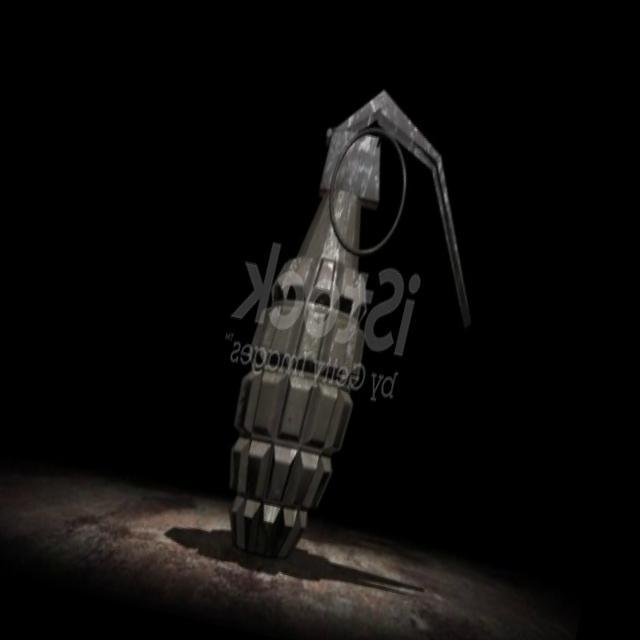grenade: (204, 75, 512, 587)
